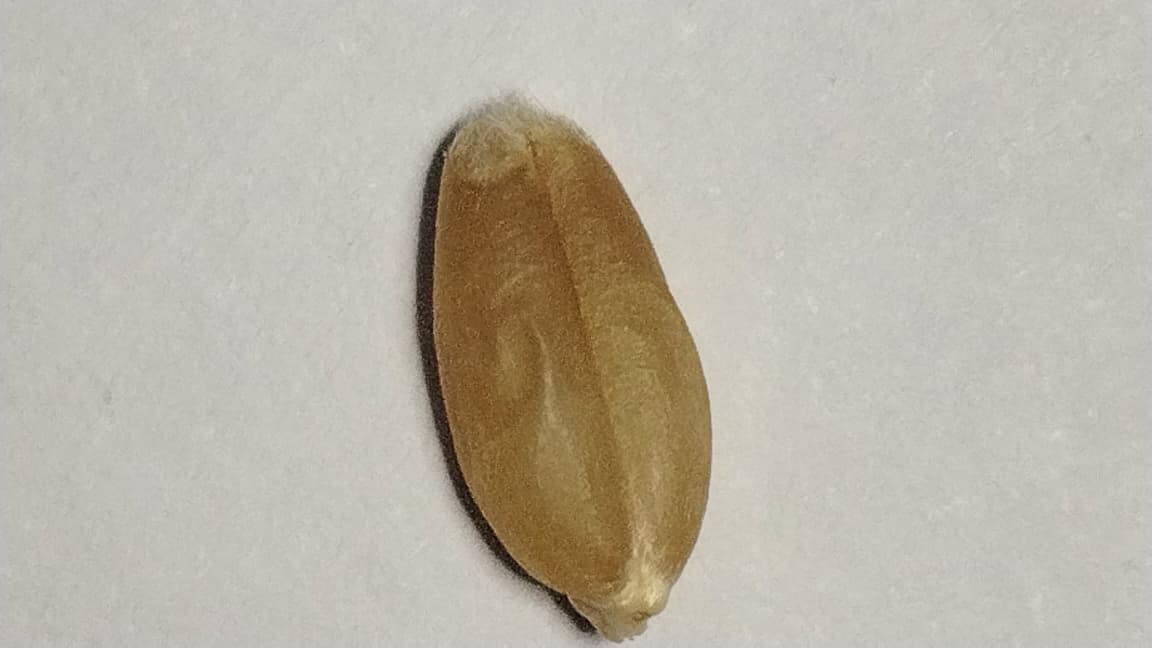healthy: (433, 95, 709, 640)
